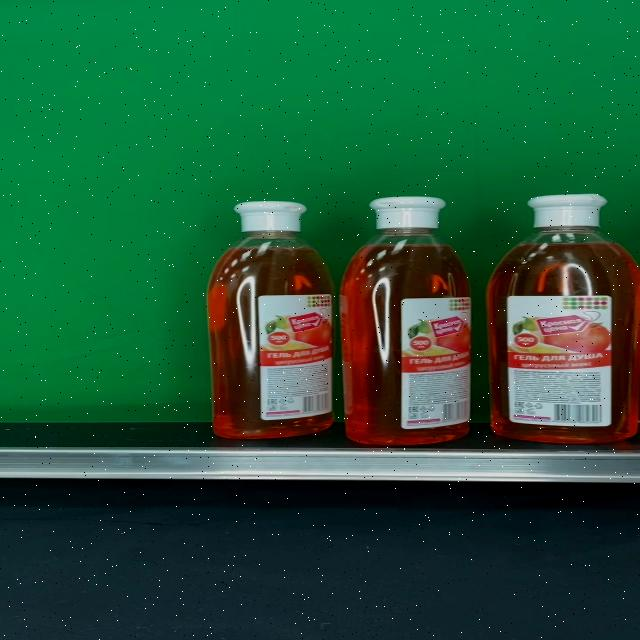Bottle: (487, 194, 640, 444), (340, 197, 472, 445), (207, 201, 333, 439)
Cap: (527, 194, 608, 228), (369, 197, 447, 230), (234, 201, 308, 232)
